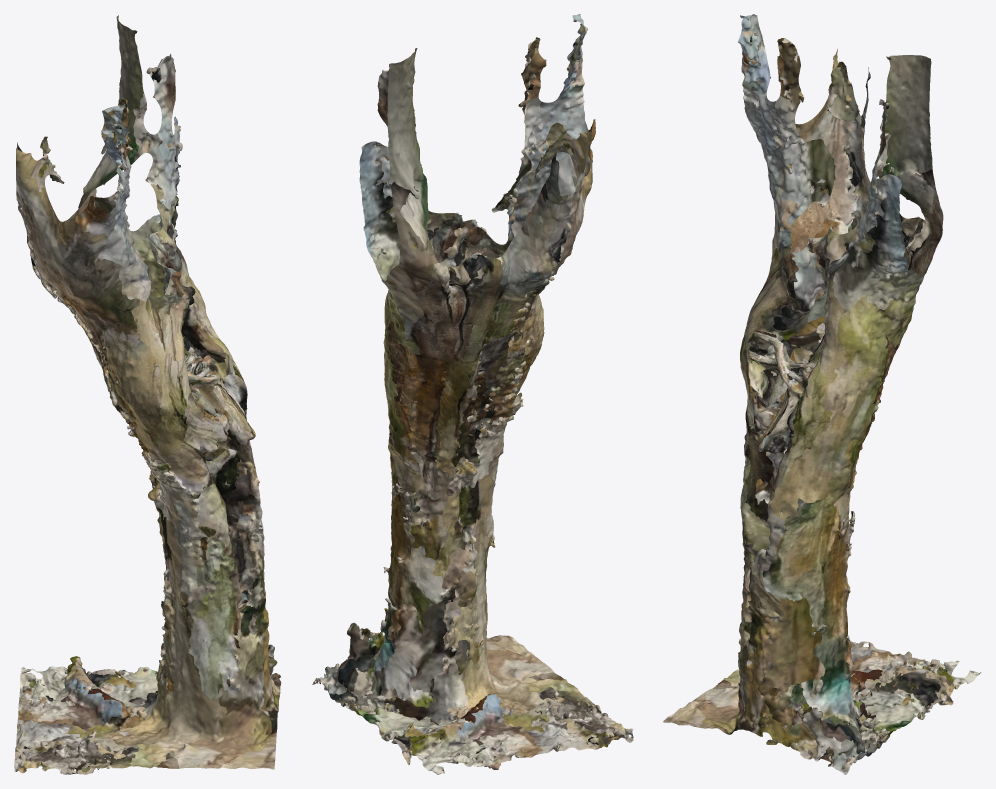
Rendered from twisted.glb.
3 views of the same model, side by side, from view 1: azimuth 30°, elevation 25°; view 2: azimuth 150°, elevation 25°; view 3: azimuth 270°, elevation 25° (orthographic). The views are drawn at different scales.
Visible parts, largest first — view 1: Object; view 2: Object; view 3: Object.
Boxes of the visible parts, x1,y1,x2,y2 form: Object: [14, 15, 281, 774]; Object: [312, 14, 633, 774]; Object: [663, 14, 981, 774].
Bounding box in the file's own units: 1.42 × 3.12 × 1.36.
1 material, 1 textured.
